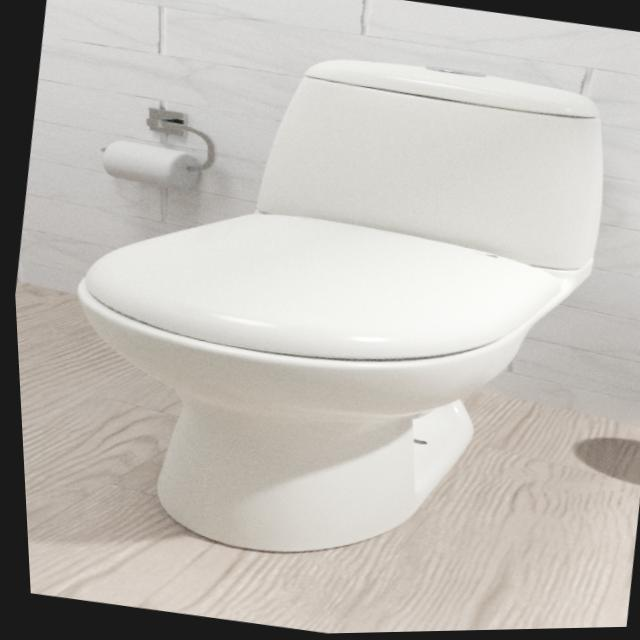toilet: (27, 13, 636, 604)
